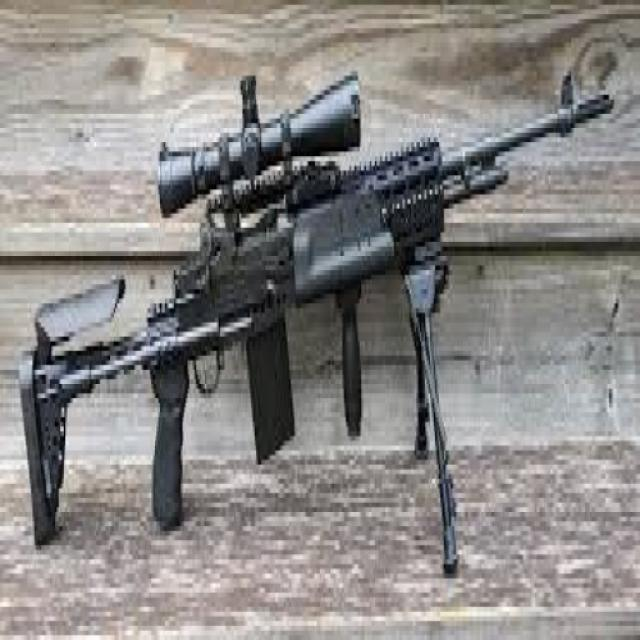Gun: (4, 57, 624, 577)
